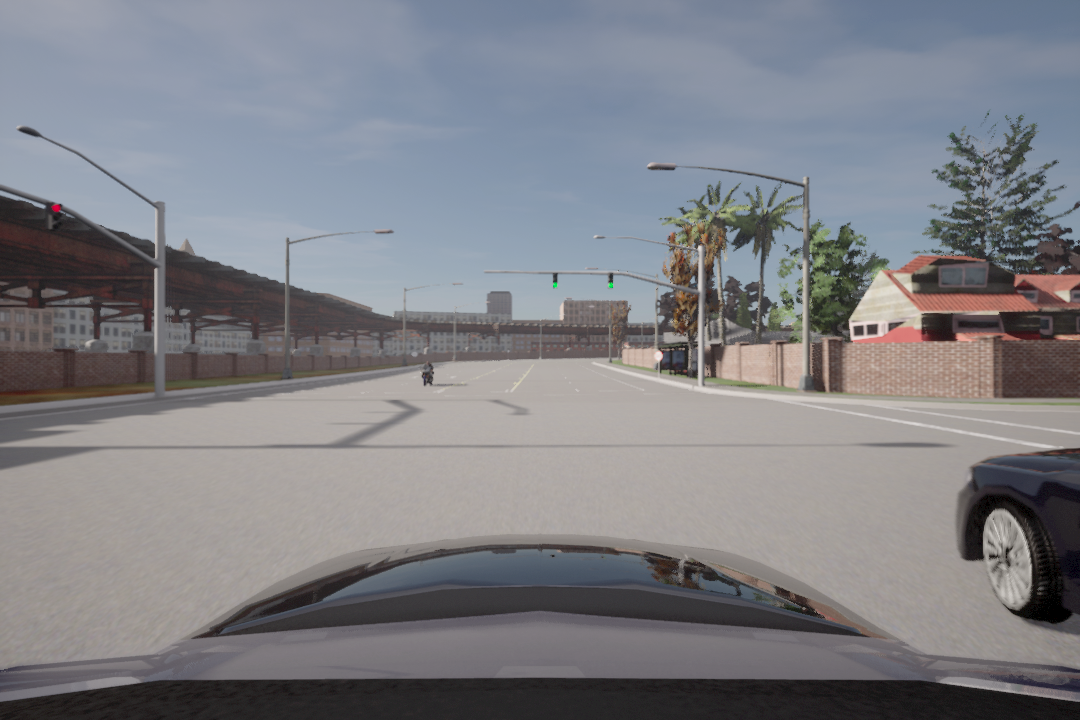TrafficLight: (44, 198, 66, 231), (550, 271, 561, 292), (607, 271, 614, 291)
